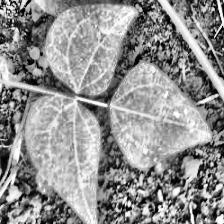ALS: (106, 64, 216, 167), (28, 96, 101, 224), (48, 0, 127, 95)
